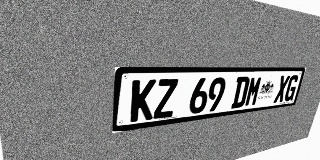6: (188, 78, 211, 114)
9: (205, 77, 227, 112)
D: (231, 76, 251, 109)
G: (283, 75, 300, 102)
K: (130, 79, 156, 122)
M: (244, 76, 263, 107)
X: (273, 75, 290, 103)
Z: (153, 79, 178, 119)
